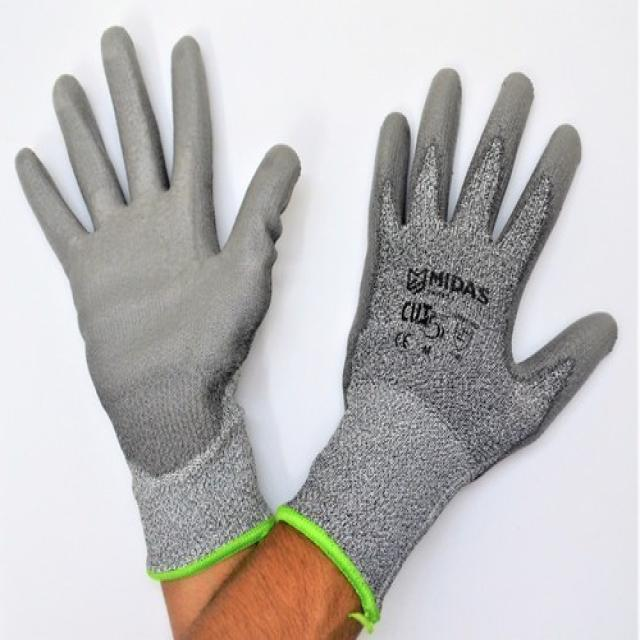gloves: (274, 69, 617, 624), (17, 26, 302, 578)
